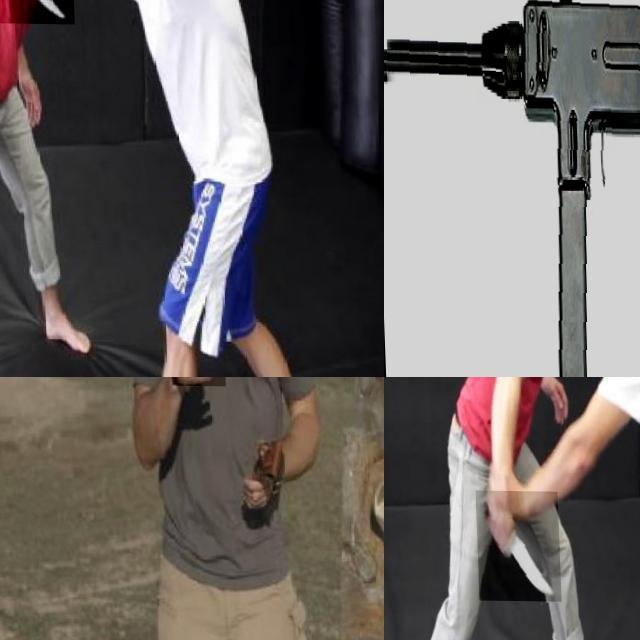-: (473, 491, 558, 602), (164, 377, 223, 466), (0, 0, 72, 49)
gun-knife-thesis - v11 Yolov5 augmented: (384, 0, 640, 377)
